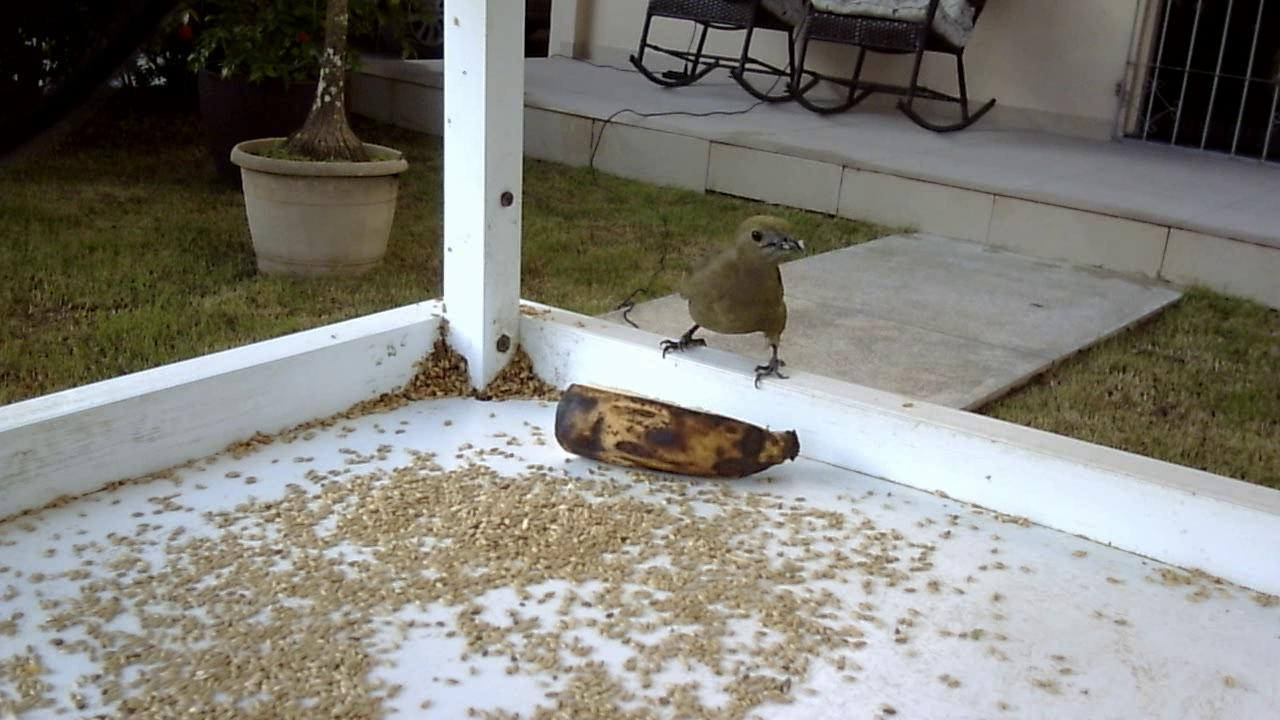sanhaco_do_coqueiro: (660, 205, 810, 392)
